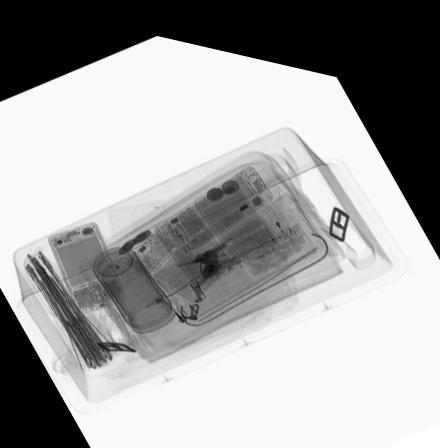Lighter: (269, 207, 289, 227)
